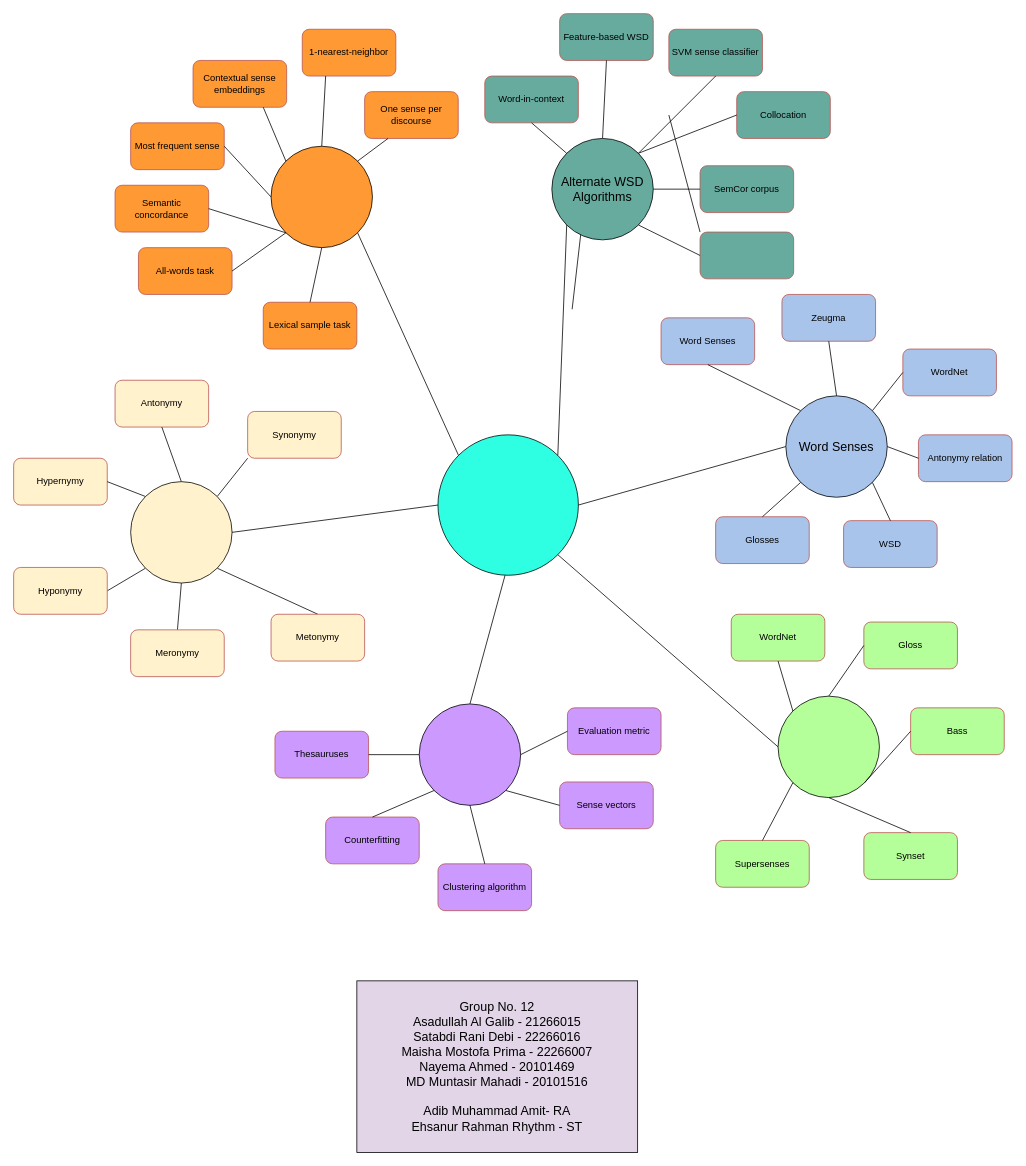
This 1026x1166 diagram has some shape labels left out. The shapes that lost their labels are listed below. From the top down, each one's centre as x and y in pixels, then its label:
At pixel 321 196: "Word Sense Disambiguation".
At pixel 746 255: "Simplified lesk algorithm".
At pixel 507 504: "Word Senses and WordNet".
At pixel 181 532: "Relations Between Senses".
At pixel 469 754: "Thesauruses to Improve Embeddings".
At pixel 828 746: "WordNet to Improve Word Senses".
